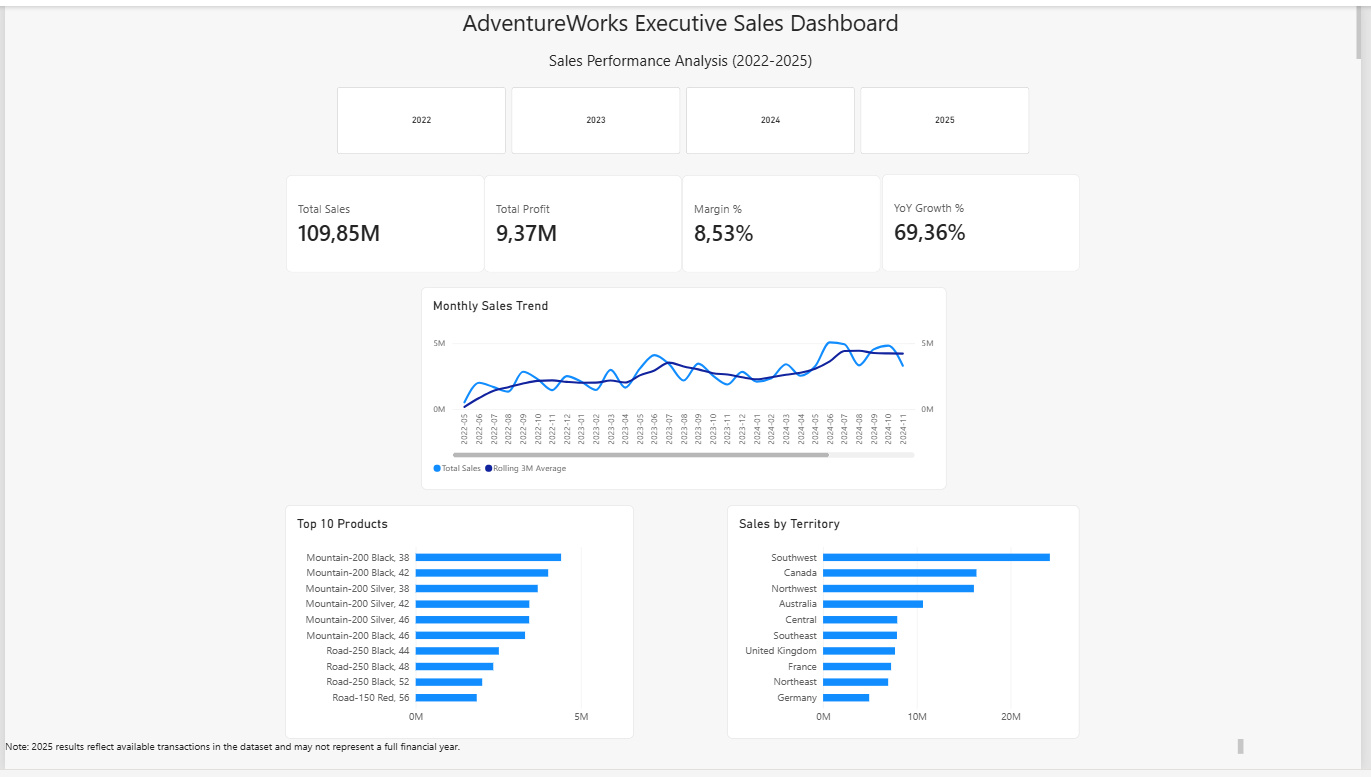

This screenshot's page, from the dashboard's own definition file:
{"tool":"powerbi","page":{"name":"Executive Overview","canvas":[1920,1080],"ordinal":0},"visuals":[{"type":"cardVisual","fields":{"Data":["FactSales.Total Sales"]},"box":[397.1,239.3,281.7,138.3],"z":0},{"type":"cardVisual","fields":{"Data":["FactSales.Total Profit"]},"box":[677.4,239.8,280,138.3],"z":1000},{"type":"cardVisual","fields":{"Data":["FactSales.Margin %"]},"box":[958.2,239.8,281.7,138.3],"z":2000},{"type":"cardVisual","fields":{"Data":["FactSales.YoY Growth %"]},"box":[1240.8,238.1,280,138.3],"z":3000},{"type":"lineChart","title":"Monthly Sales Trend","fields":{"Category":["DimDate.YearMonth"],"Y":["FactSales.Total Sales"],"Y2":["FactSales.Rolling 3M Average"]},"box":[589.5,397.7,743.6,286.8],"z":4000},{"type":"clusteredBarChart","title":"Sales by Territory","fields":{"Category":["DimTerritory.Name"],"Y":["FactSales.Total Sales"]},"box":[1022.1,706.4,498.8,331.4],"z":5000},{"type":"clusteredBarChart","title":"Top 10 Products","fields":{"Category":["DimProduct.Name"],"Y":["FactSales.Total Sales"]},"box":[395.9,706.4,493.6,331.4],"z":6000},{"type":"advancedSlicerVisual","fields":{"Values":["DimDate.Year"]},"box":[469.2,115.4,982.1,95.1],"z":7000},{"type":"textbox","box":[0,0,1920.6,98.2],"z":8000},{"type":"textbox","box":[0,1038,1753.3,28.3],"z":9000}]}

Visuals, with their boxes in screenshot pixels (x1, y1, x2, y2), scaled from the page's 1920x1080 canvas onto the 1371x777 screenshot:
cardVisual - FactSales.Total Sales: [left=284, top=172, right=485, bottom=272]
cardVisual - FactSales.Total Profit: [left=484, top=173, right=684, bottom=272]
cardVisual - FactSales.Margin %: [left=684, top=173, right=885, bottom=272]
cardVisual - FactSales.YoY Growth %: [left=886, top=171, right=1086, bottom=271]
"Monthly Sales Trend" lineChart: [left=421, top=286, right=952, bottom=492]
"Sales by Territory" clusteredBarChart: [left=730, top=508, right=1086, bottom=747]
"Top 10 Products" clusteredBarChart: [left=283, top=508, right=635, bottom=747]
advancedSlicerVisual - DimDate.Year: [left=335, top=83, right=1036, bottom=151]
textbox: [left=0, top=0, right=1370, bottom=71]
textbox: [left=0, top=747, right=1252, bottom=767]
